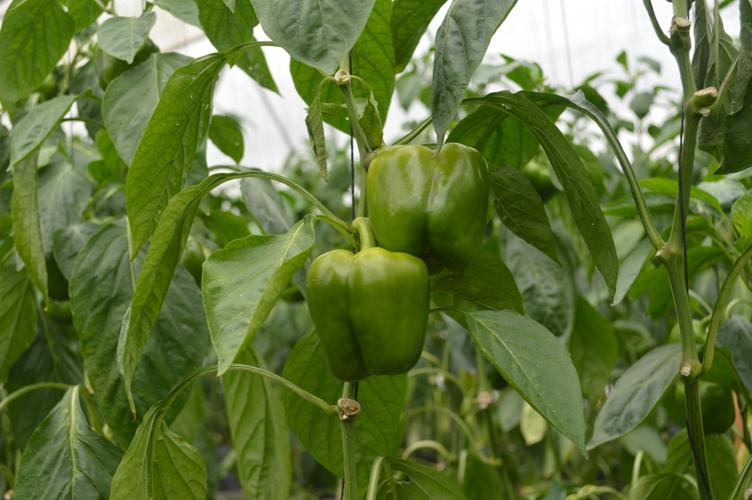BellPepper: (344, 133, 491, 267), (303, 235, 429, 384)
